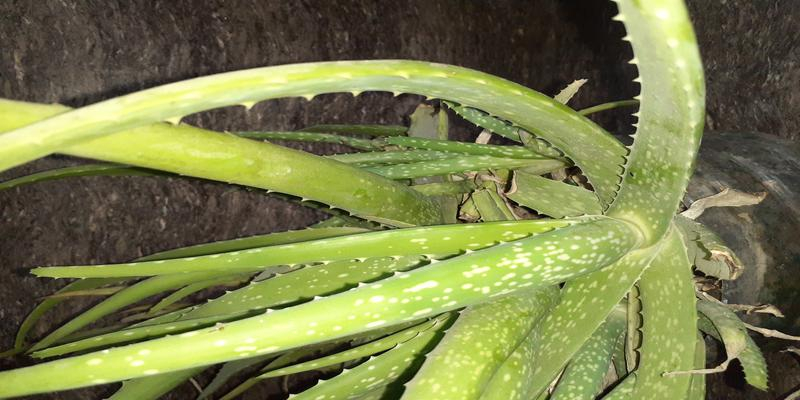Aloevera: (168, 95, 731, 400)
